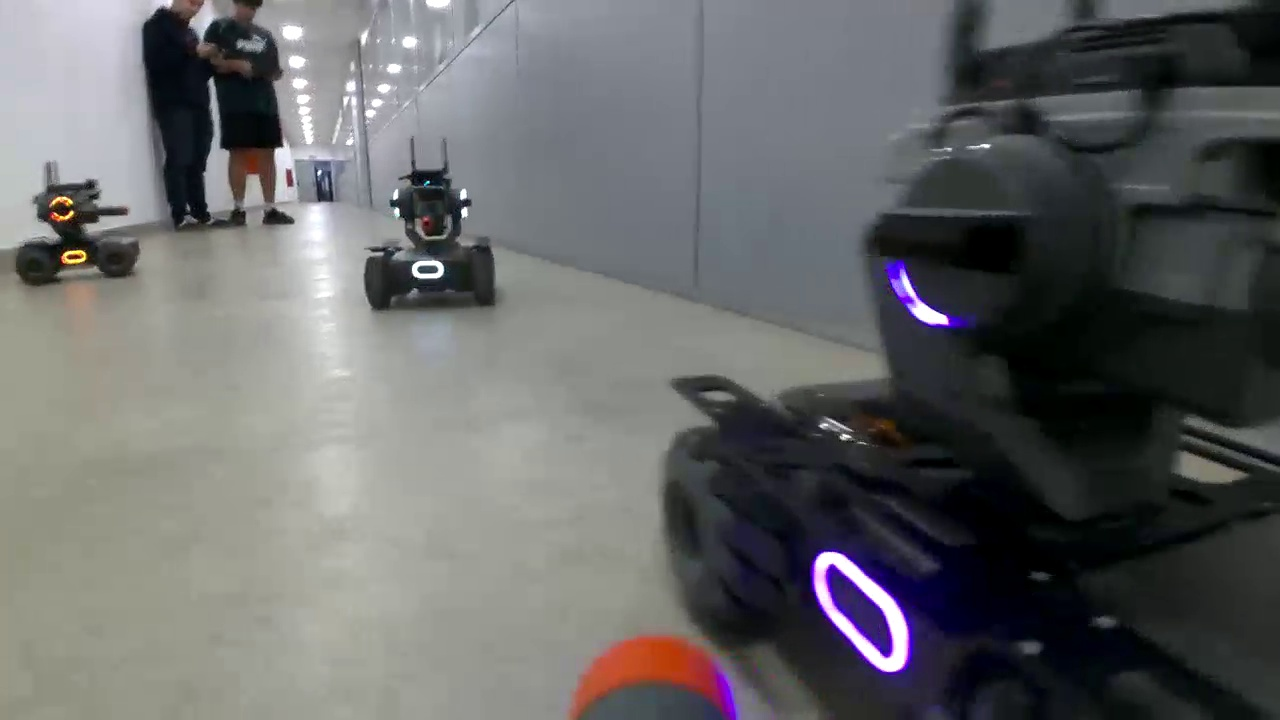robot: (662, 19, 1280, 720), (362, 170, 499, 308), (14, 180, 142, 285)
